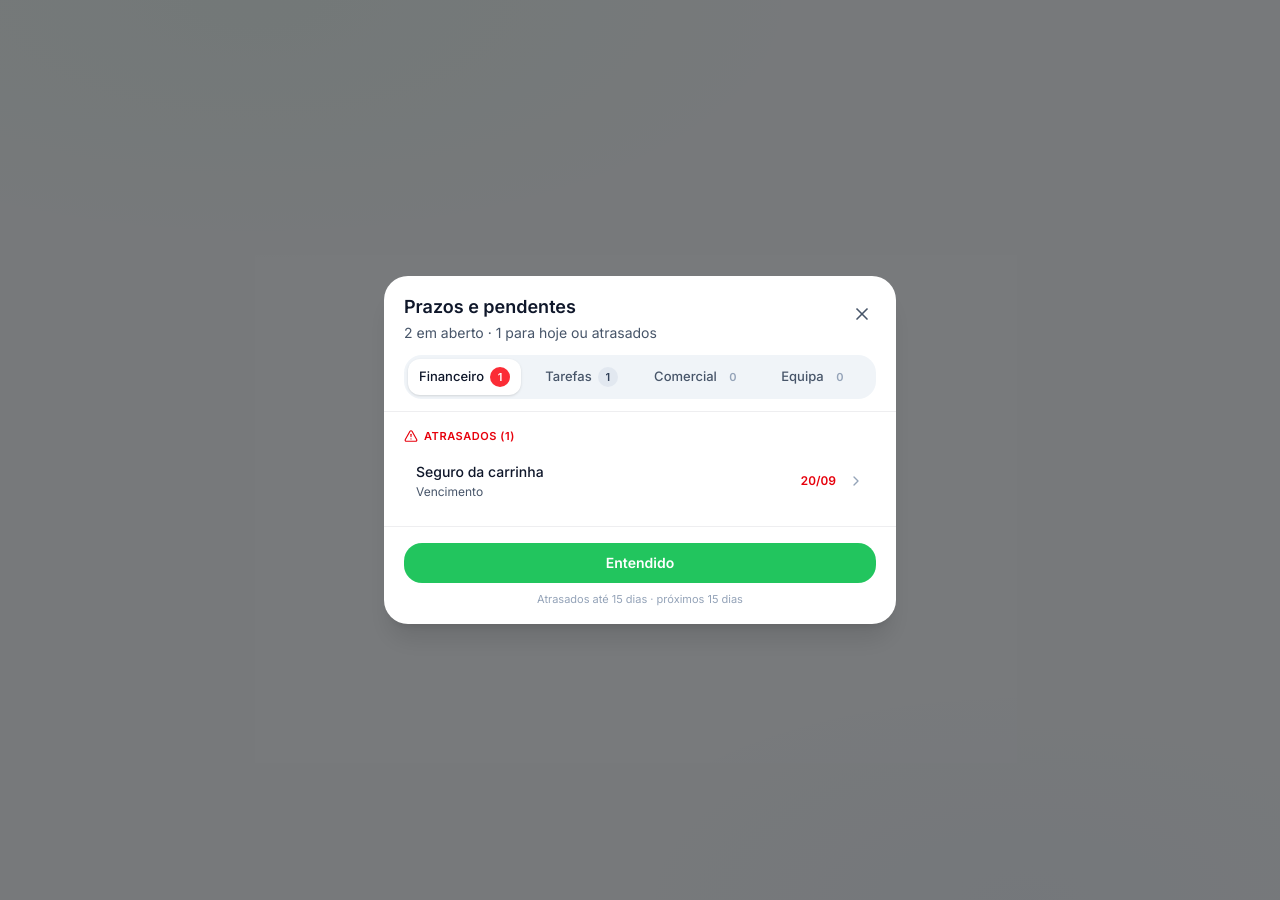
it: abrir e não abrir › agrupa por urgência com os rótulos certos
The image size is (1280, 900).
Click the tab "Tarefas 1". click: click(582, 377)
box: x1=525 y1=359 x2=638 y2=395
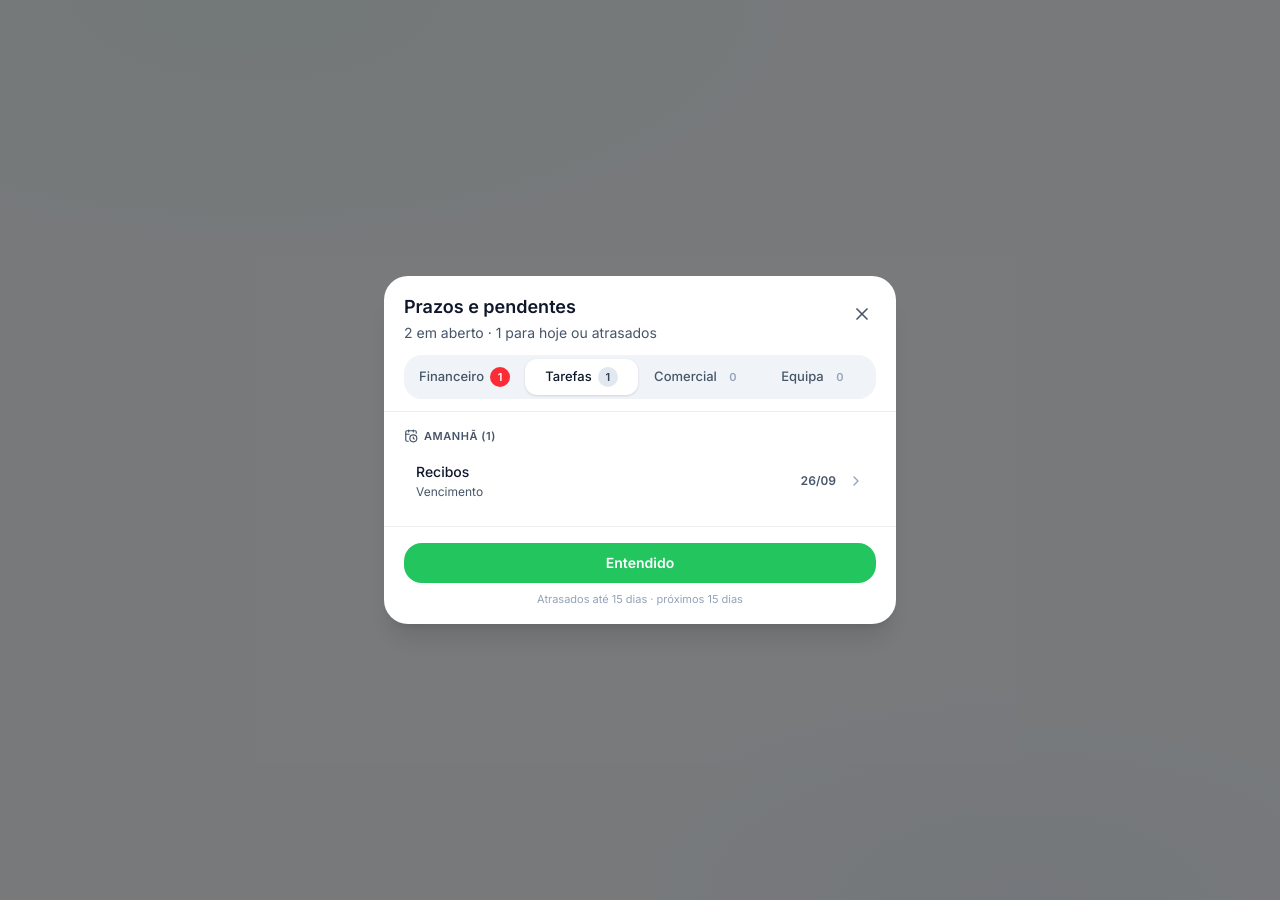
Expected: the text "Amanhã" is shown, x1=424 y1=429 x2=478 y2=443
Expected: the text "Recibos" is shown, x1=416 y1=463 x2=469 y2=480
